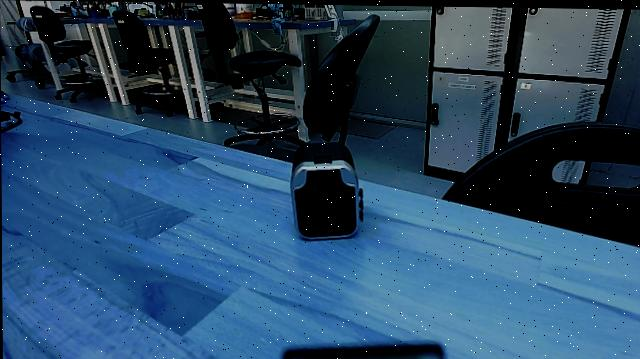adapter: (274, 140, 368, 243)
